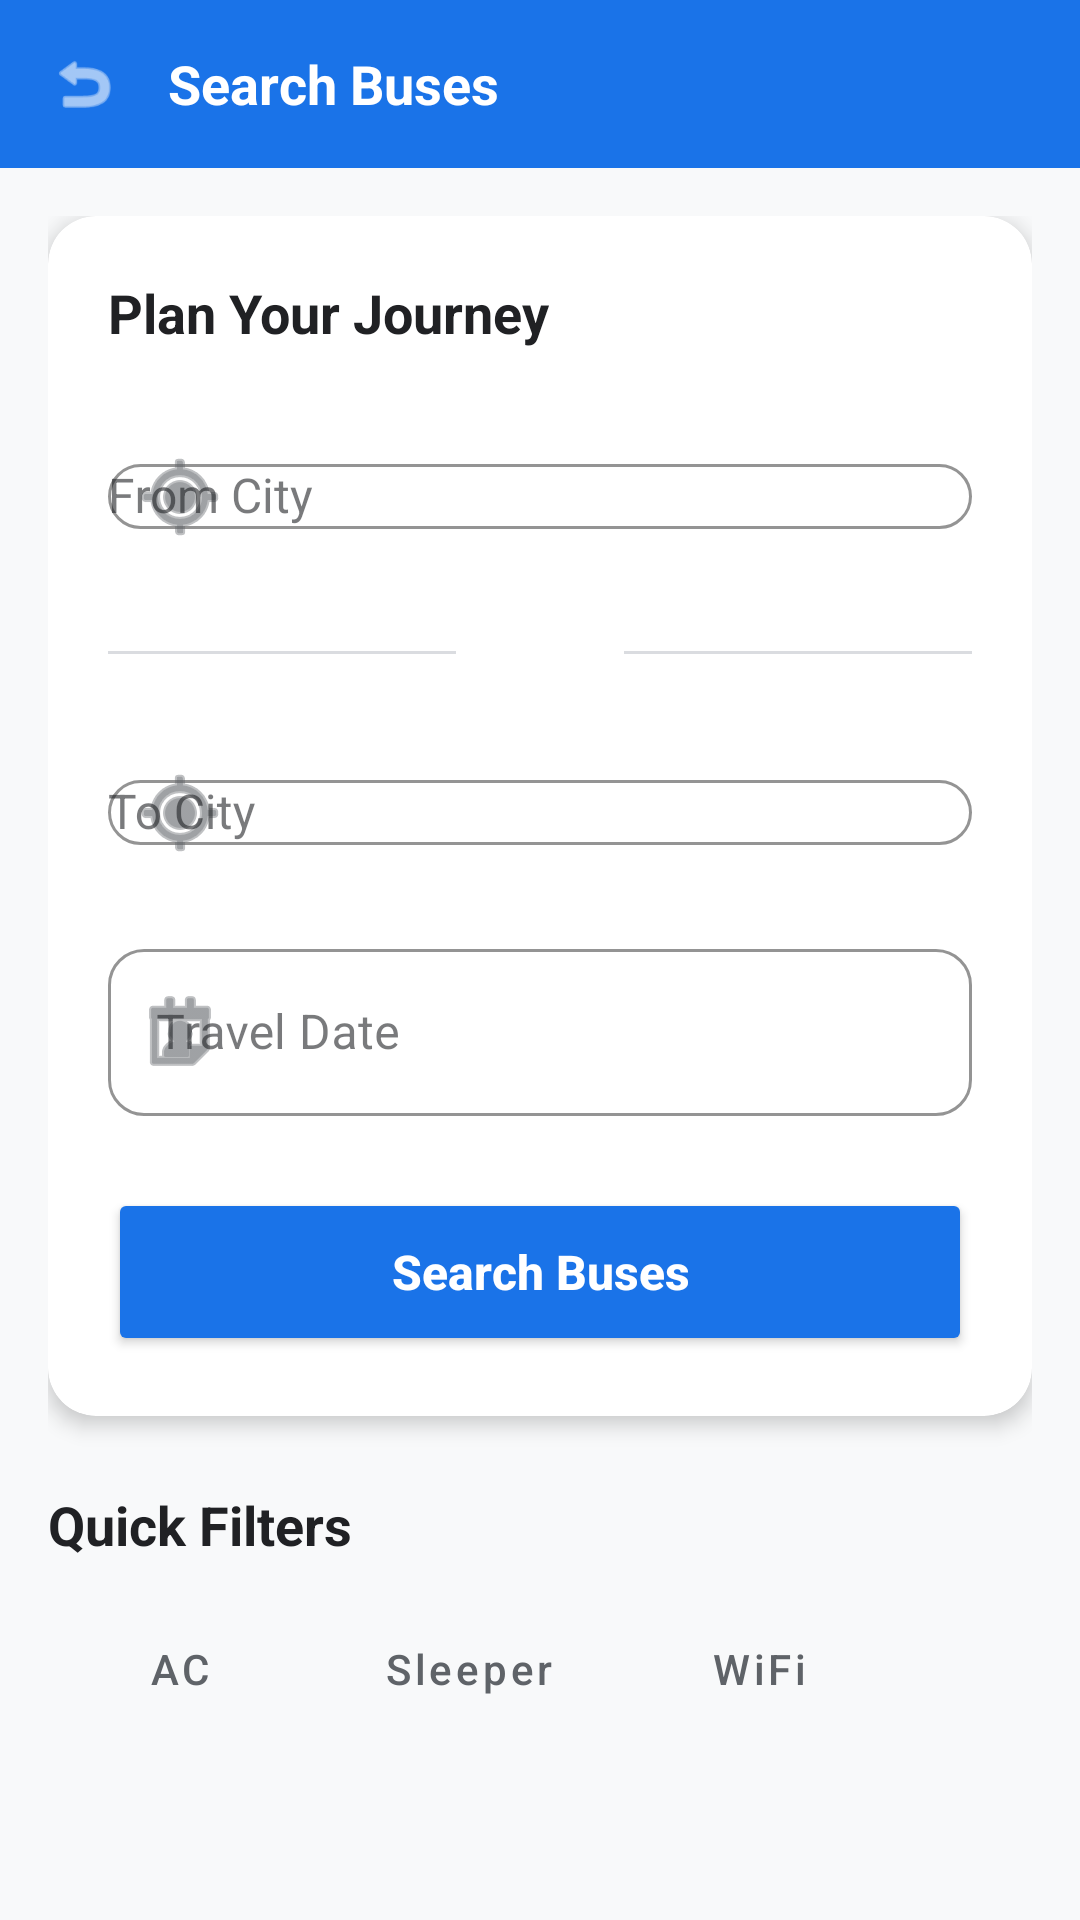

Screen size 1080w x 1920h. Icon name, then its box in pixels as (x1, y1, x2, y2):
Back: (59, 61, 111, 108)
